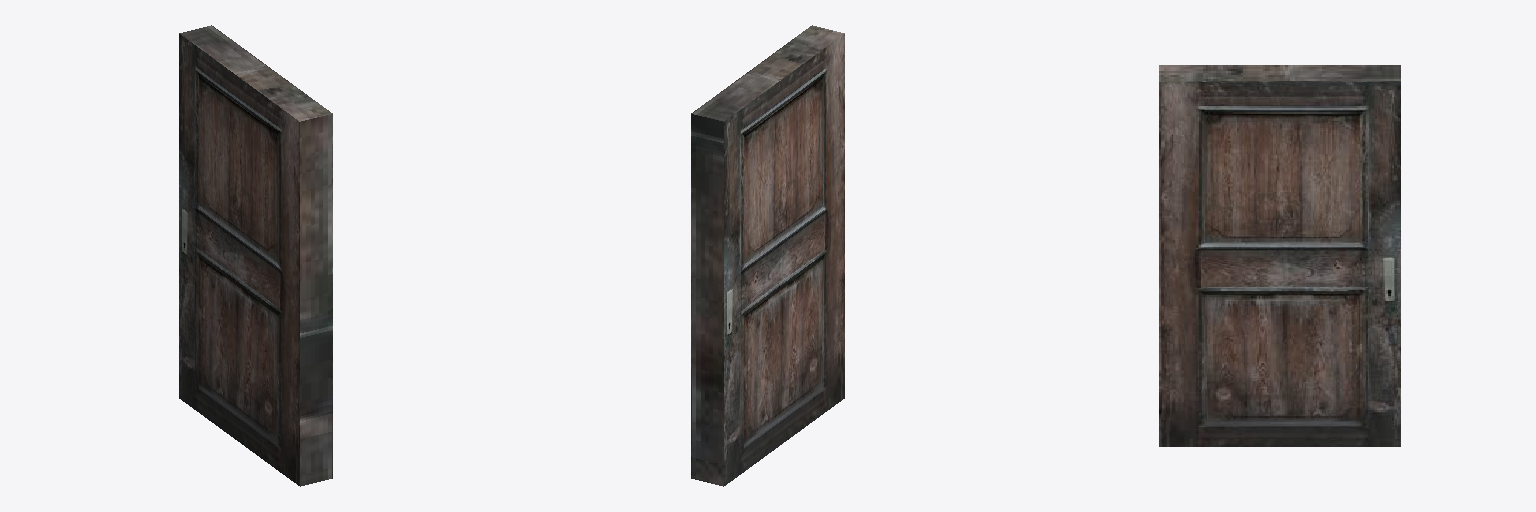
3 views of the same model, side by side, from view 1: azimuth 30°, elevation 25°; view 2: azimuth 150°, elevation 25°; view 3: azimuth 270°, elevation 25° (orthographic).
Parts seen in each view (by area): view 1: Door; view 2: Door; view 3: Door.
Boxes of the visible parts, <box> form: Door: <box>179,25,332,486</box>; Door: <box>691,25,844,486</box>; Door: <box>1159,65,1400,446</box>.
Size of the model in its own units: 0.409 by 4.31 by 2.59.
Materials: 1 (1 with a texture image).